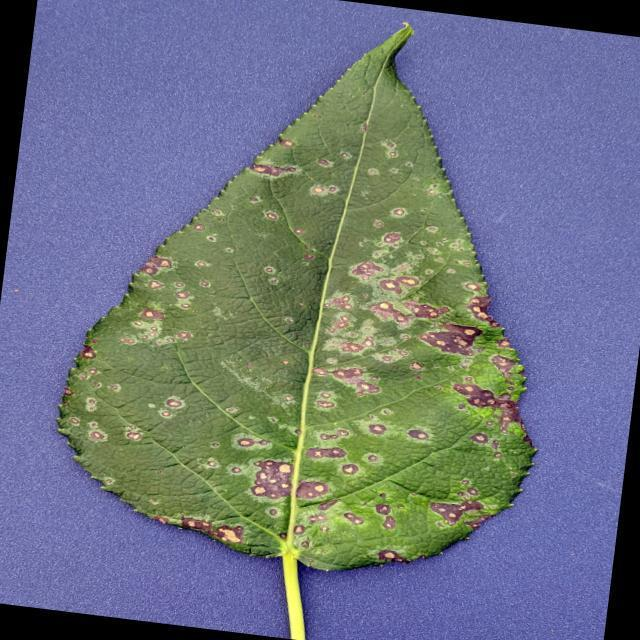Septoria: (48, 92, 563, 572)
